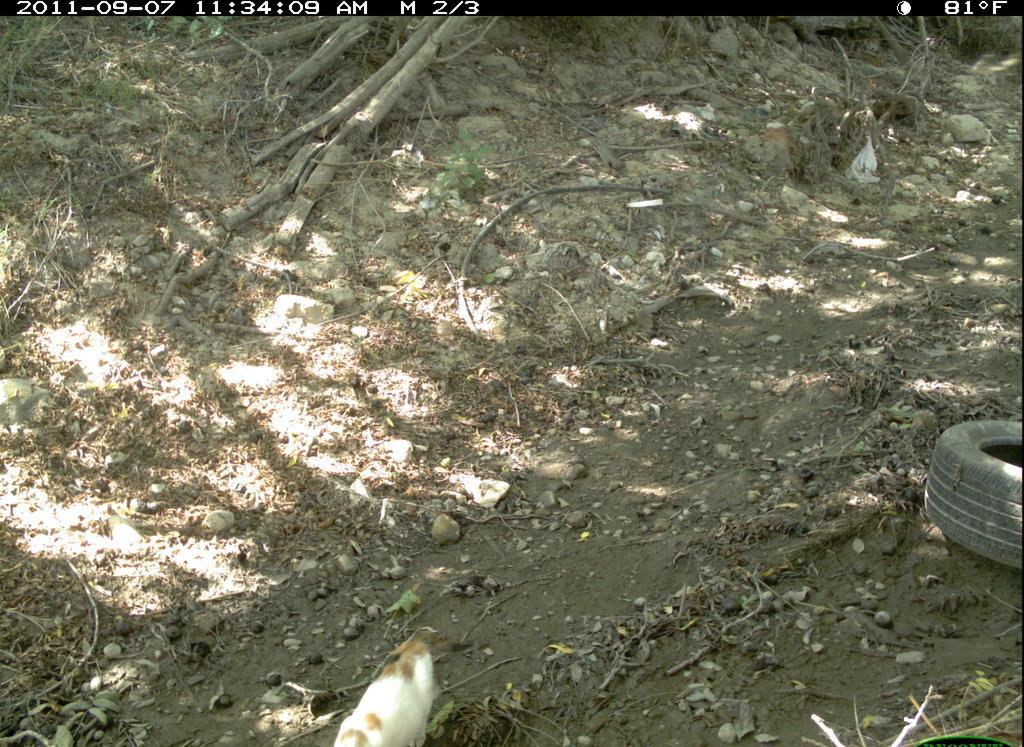cat: (321, 621, 478, 745)
